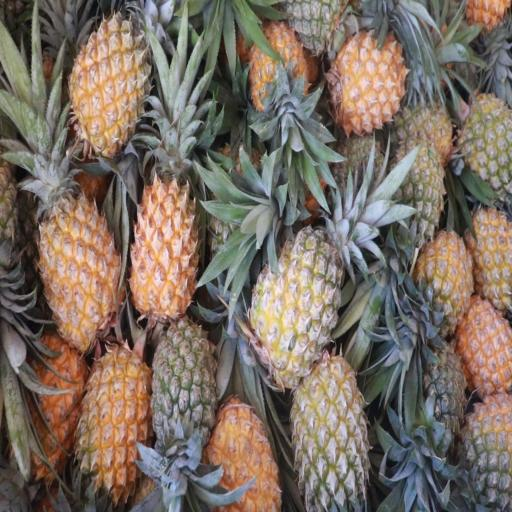------------------------------: (256, 236, 339, 380), (296, 359, 370, 512)
Pineapple - v8 v1: (42, 174, 117, 342), (80, 350, 153, 496), (71, 10, 147, 145), (134, 174, 200, 323), (24, 334, 88, 472), (211, 399, 281, 512), (336, 32, 408, 128), (249, 28, 310, 124), (457, 291, 512, 393), (420, 233, 472, 329), (467, 203, 512, 299)
